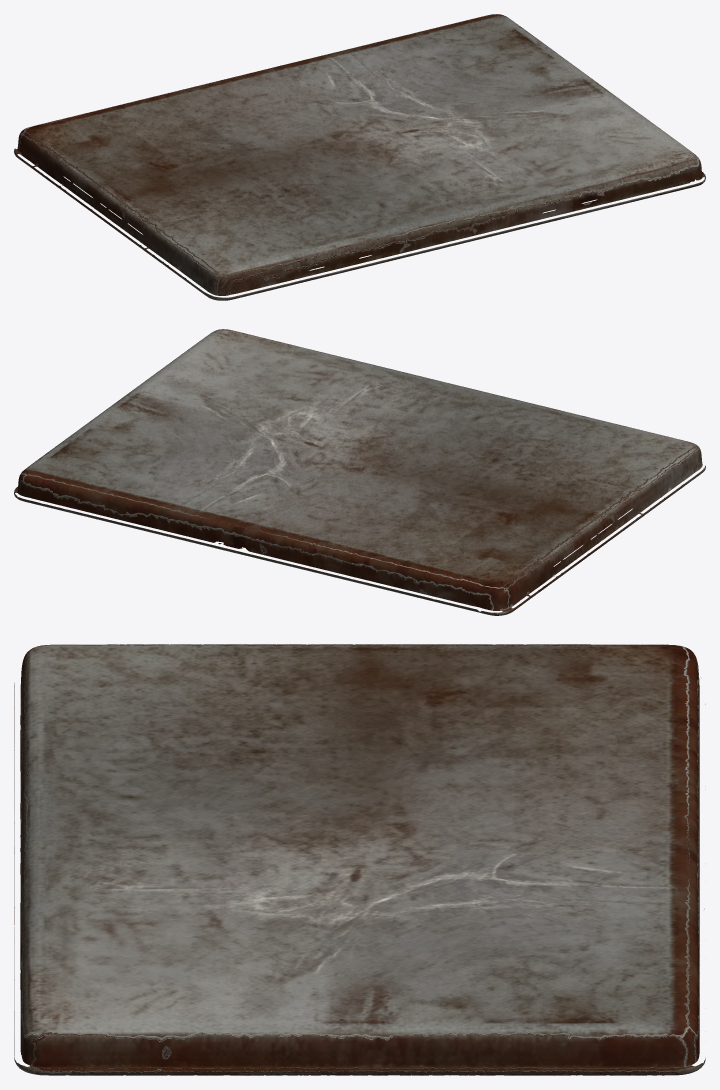
3 views of the same model, one above another, from view 1: azimuth 30°, elevation 25°; view 2: azimuth 150°, elevation 25°; view 3: azimuth 270°, elevation 25° (orthographic). The views are drawn at different scales.
Size of the model in its own units: 1.65 by 0.0799 by 1.21.
Materials: 1 (1 with a texture image).
